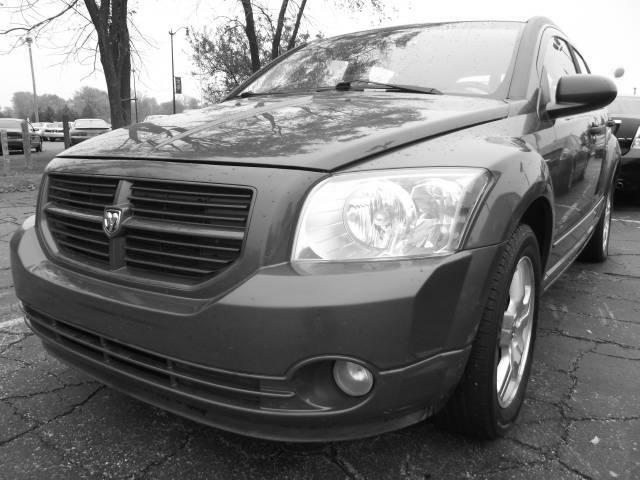car: (13, 20, 620, 449)
